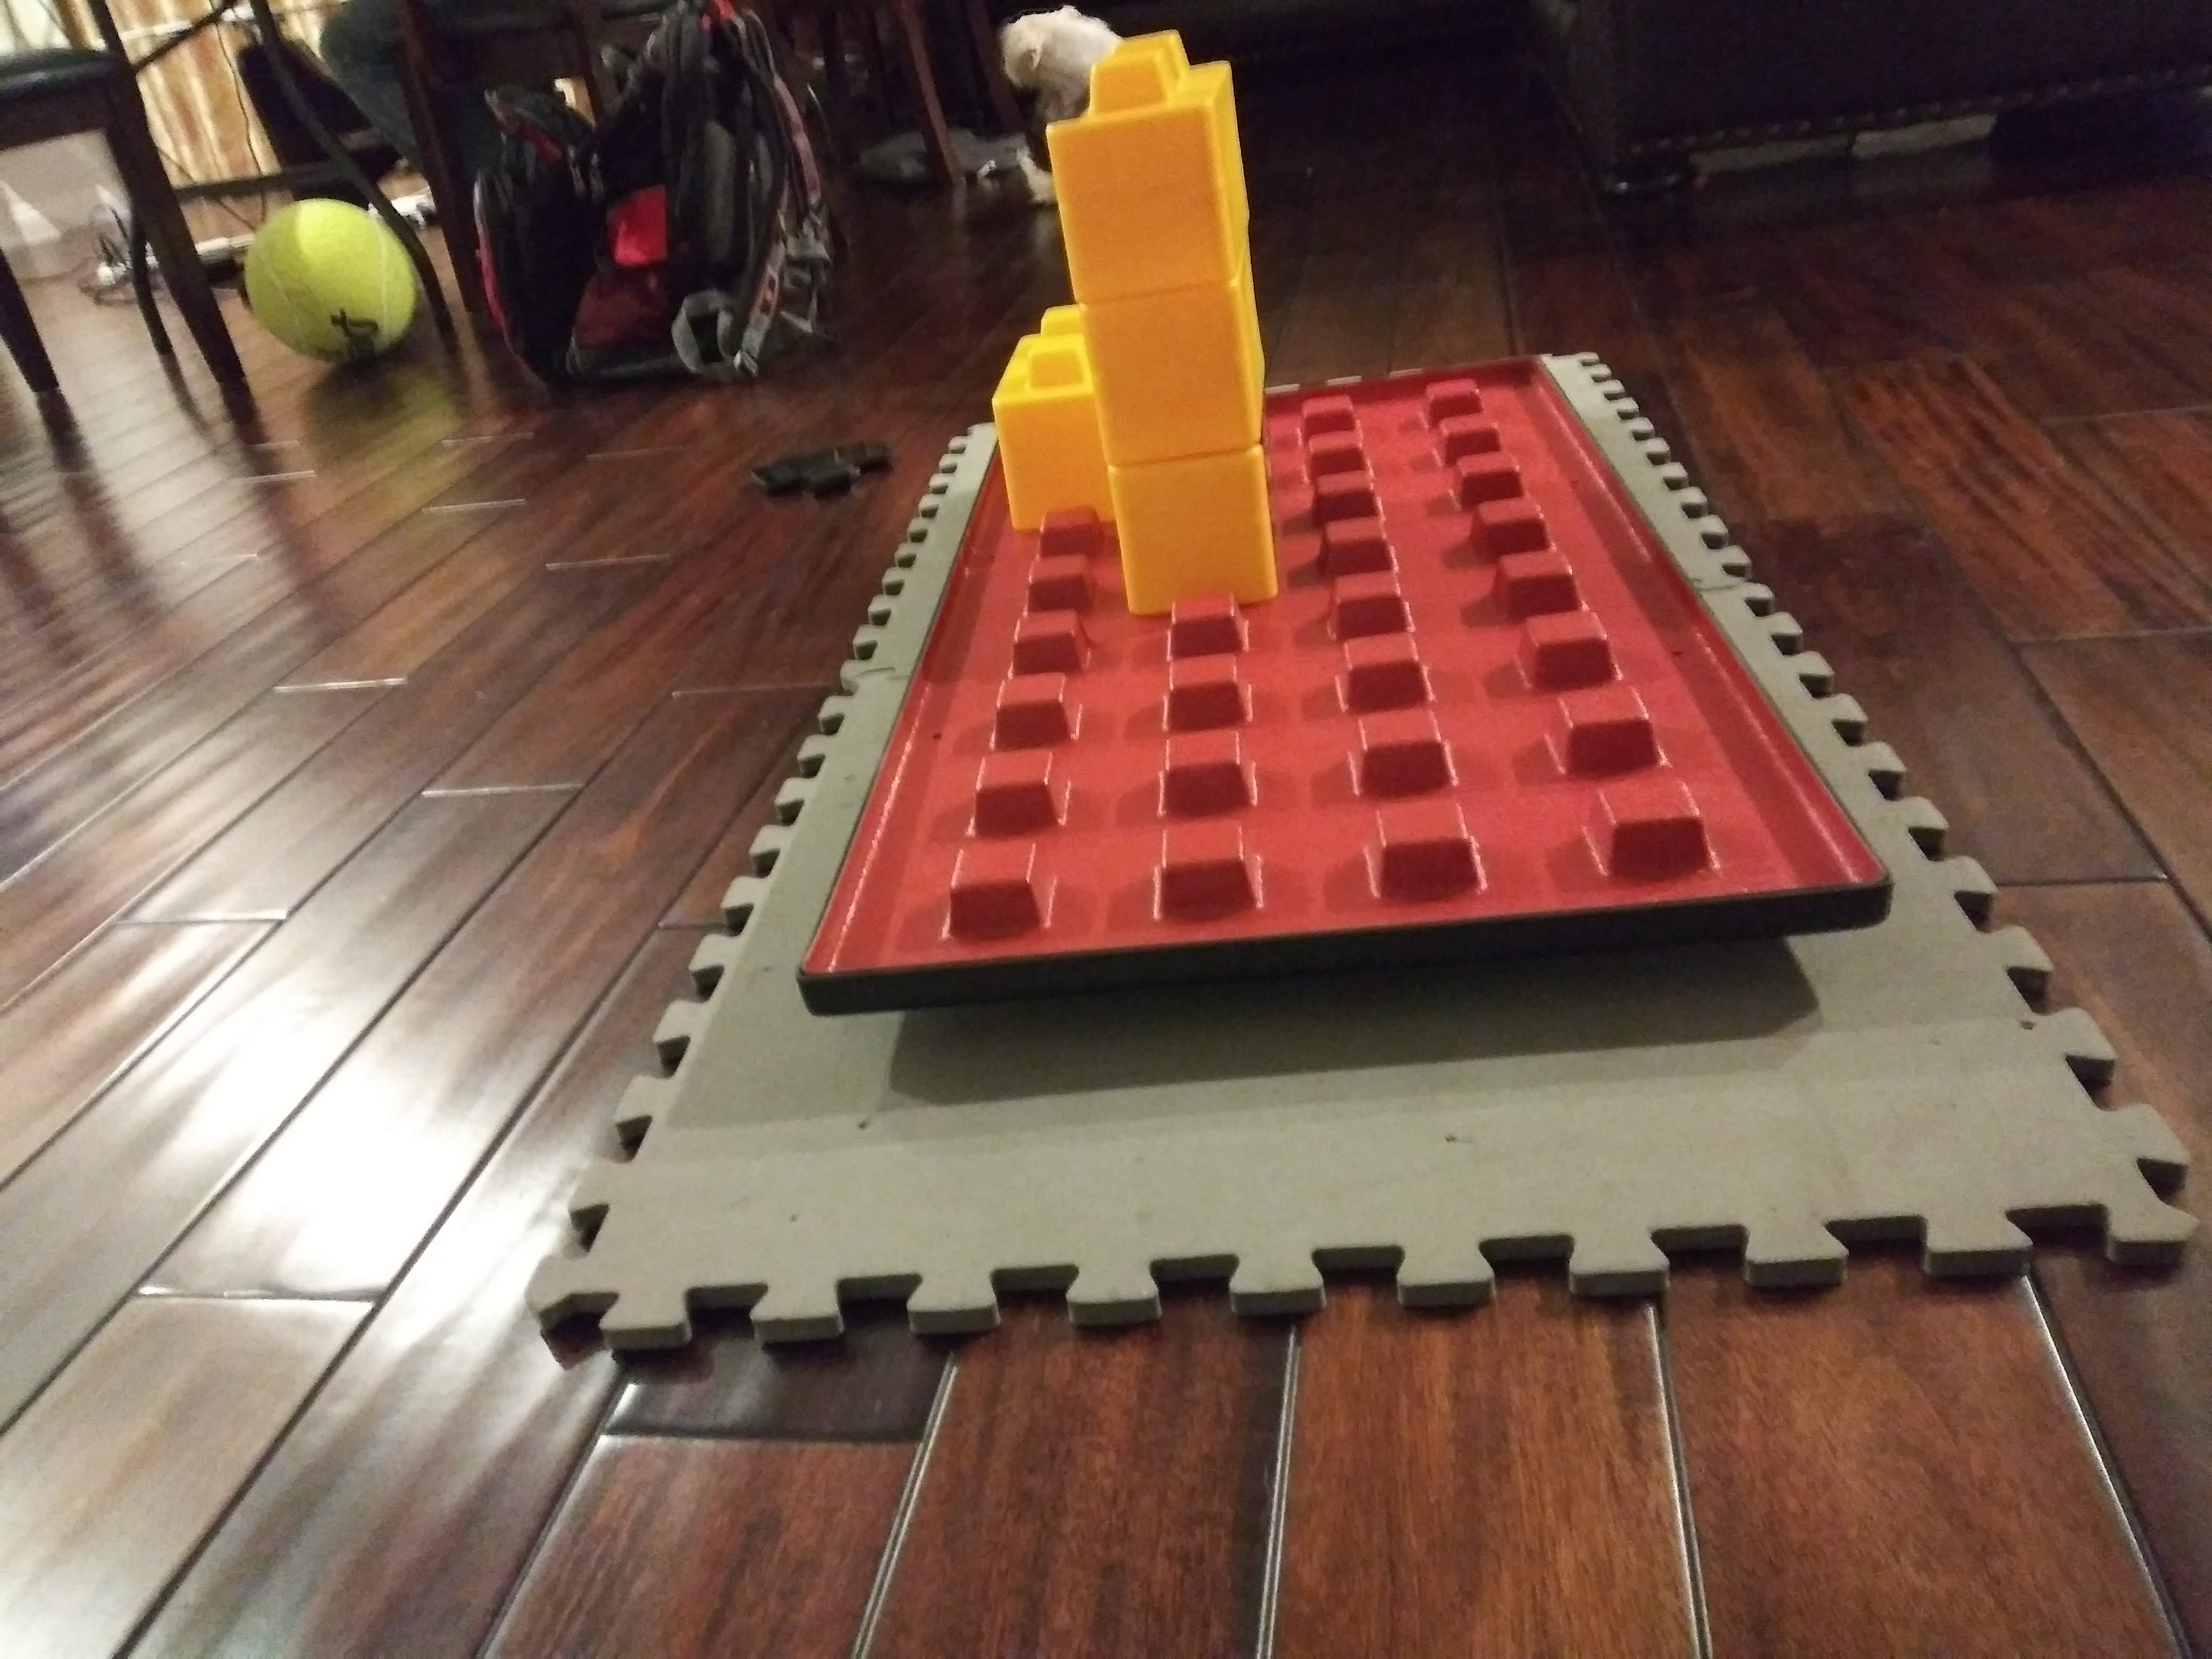red foundation: (894, 390, 1817, 1032)
